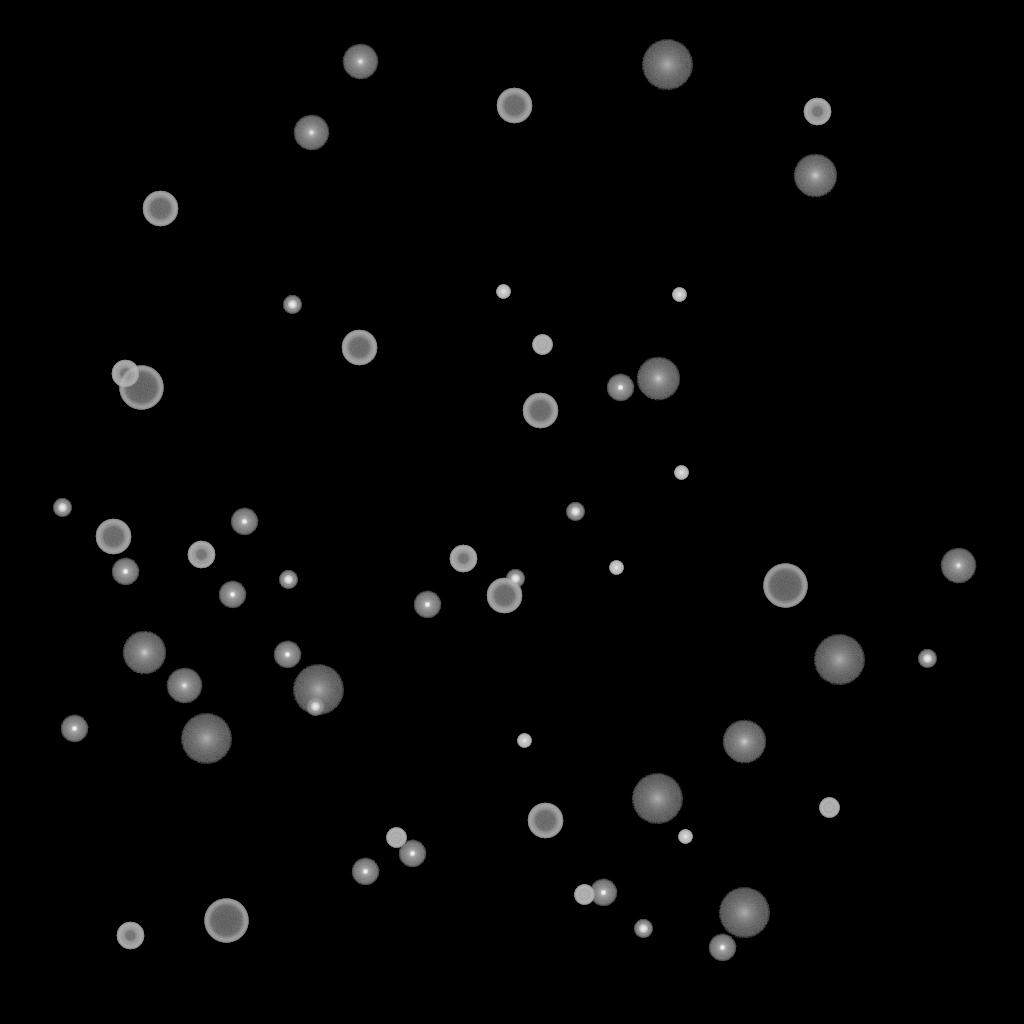depth:-10: (230, 508, 258, 536), (273, 641, 301, 669), (708, 934, 736, 962), (398, 840, 426, 868), (606, 374, 634, 402), (60, 715, 88, 743), (218, 581, 246, 609), (111, 558, 139, 586), (413, 591, 441, 619), (589, 879, 617, 907), (351, 858, 379, 886)
depth:-20: (506, 570, 524, 588), (634, 920, 652, 938), (53, 499, 71, 517), (306, 698, 324, 716), (918, 650, 936, 668), (283, 296, 301, 314), (279, 571, 297, 589), (566, 503, 584, 521)
depth:-30: (678, 830, 692, 844), (496, 285, 510, 299), (517, 734, 531, 748), (674, 466, 688, 480), (672, 288, 686, 302), (609, 561, 623, 575)
depth:-40: (532, 335, 552, 355), (574, 885, 594, 905), (386, 828, 406, 848), (819, 798, 839, 818)
depth:-50: (803, 98, 831, 126), (449, 545, 477, 573), (187, 541, 215, 569), (116, 922, 144, 950), (111, 360, 139, 388)
depth:-60: (341, 330, 377, 366), (95, 519, 131, 555), (527, 803, 563, 839), (522, 393, 558, 429), (142, 191, 178, 227), (496, 88, 532, 124), (486, 578, 522, 614)
depth:-70: (763, 564, 807, 608), (119, 366, 163, 410), (204, 899, 248, 943)
depth:0: (293, 115, 329, 151), (342, 44, 378, 80), (940, 548, 976, 584), (166, 668, 202, 704)
depth:10: (793, 154, 837, 198), (122, 631, 166, 675), (722, 720, 766, 764), (636, 357, 680, 401)
depth:20: (641, 40, 693, 90), (813, 635, 865, 685), (631, 774, 683, 824), (292, 665, 344, 715), (180, 714, 232, 764), (718, 888, 770, 938)
